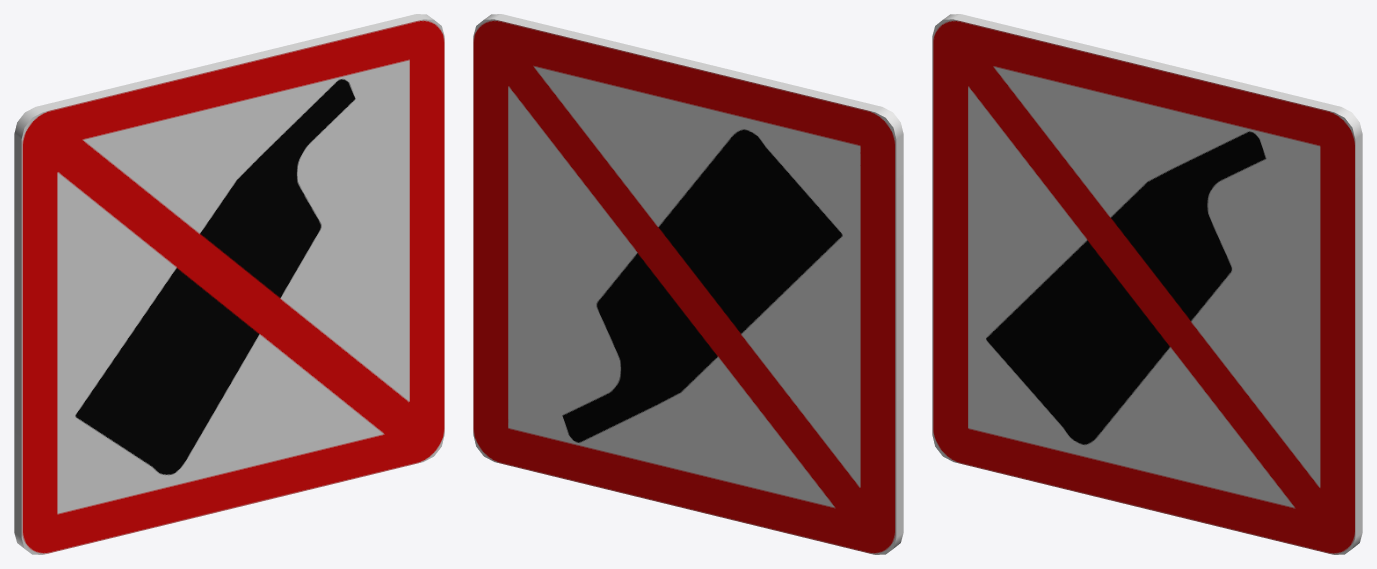
File: no_keyboard.fbx
The picture shows the model from 3 angles, left to right: view 1: azimuth 30°, elevation 25°; view 2: azimuth 150°, elevation 25°; view 3: azimuth 330°, elevation 25°; orthographic projection.
Parts seen in each view (by area): view 1: pCube1; view 2: pCube1; view 3: pCube1.
Part boxes in pixels (x1,y1,x2,y2): pCube1: (14,14,444,554); pCube1: (473,14,903,554); pCube1: (932,14,1362,554).
Bounding box in the file's own units: 1 × 1 × 0.03.
Materials: 1 (1 with a texture image).
